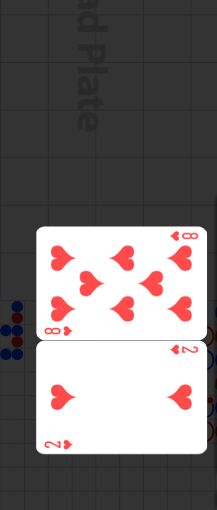2H: (43, 438, 75, 451)
8H: (168, 230, 199, 243)
